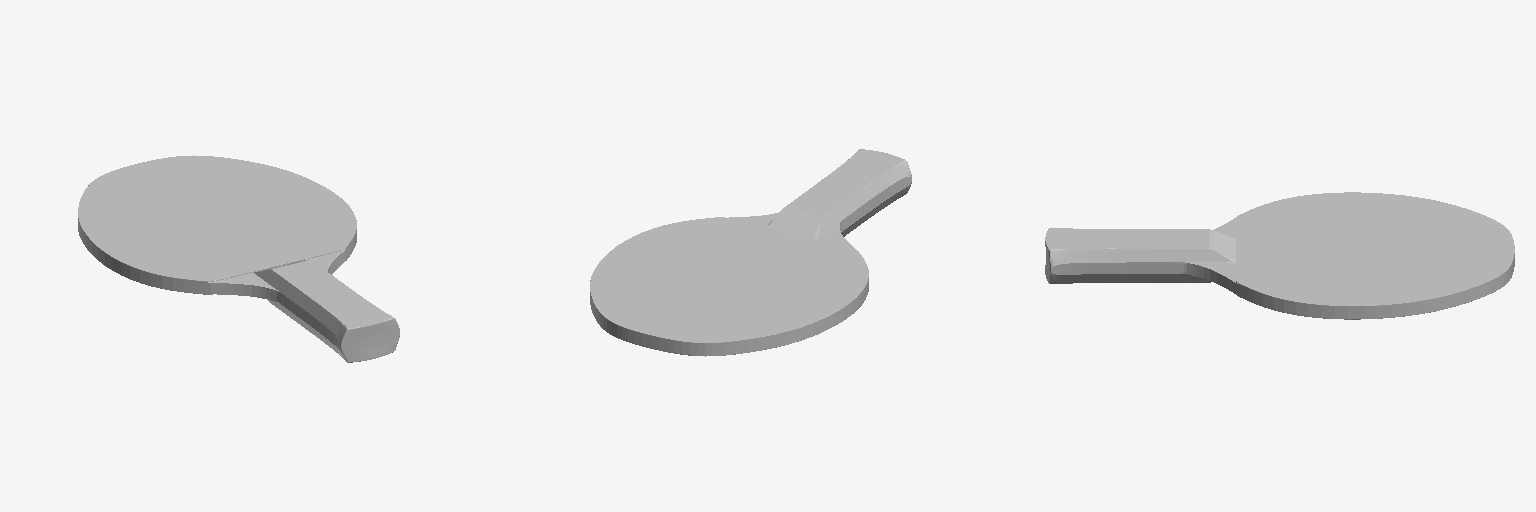
The model's file is player_pong.obj.
The picture shows the model from 3 angles: view 1: azimuth 30°, elevation 25°; view 2: azimuth 150°, elevation 25°; view 3: azimuth 270°, elevation 25°; orthographic projection.
Parts seen in each view (by area): view 1: pong; view 2: pong; view 3: pong.
Boxes of the visible parts, x1,y1,x2,y2 form: pong: [78, 155, 399, 362]; pong: [590, 149, 911, 356]; pong: [1045, 192, 1514, 319].
Bounding box in the file's own units: 1 × 0.1415 × 1.74.